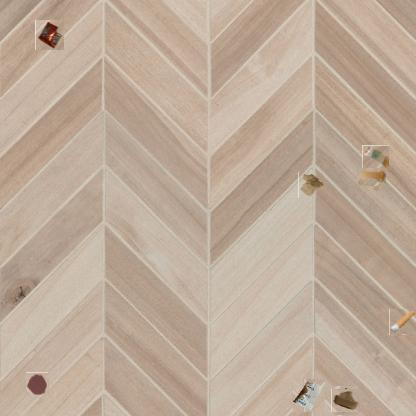dirty: (293, 380, 325, 414), (35, 20, 64, 50), (389, 309, 416, 336), (298, 172, 325, 198), (333, 387, 359, 414), (363, 144, 388, 169)
liquid: (359, 165, 383, 189), (26, 373, 49, 395)
